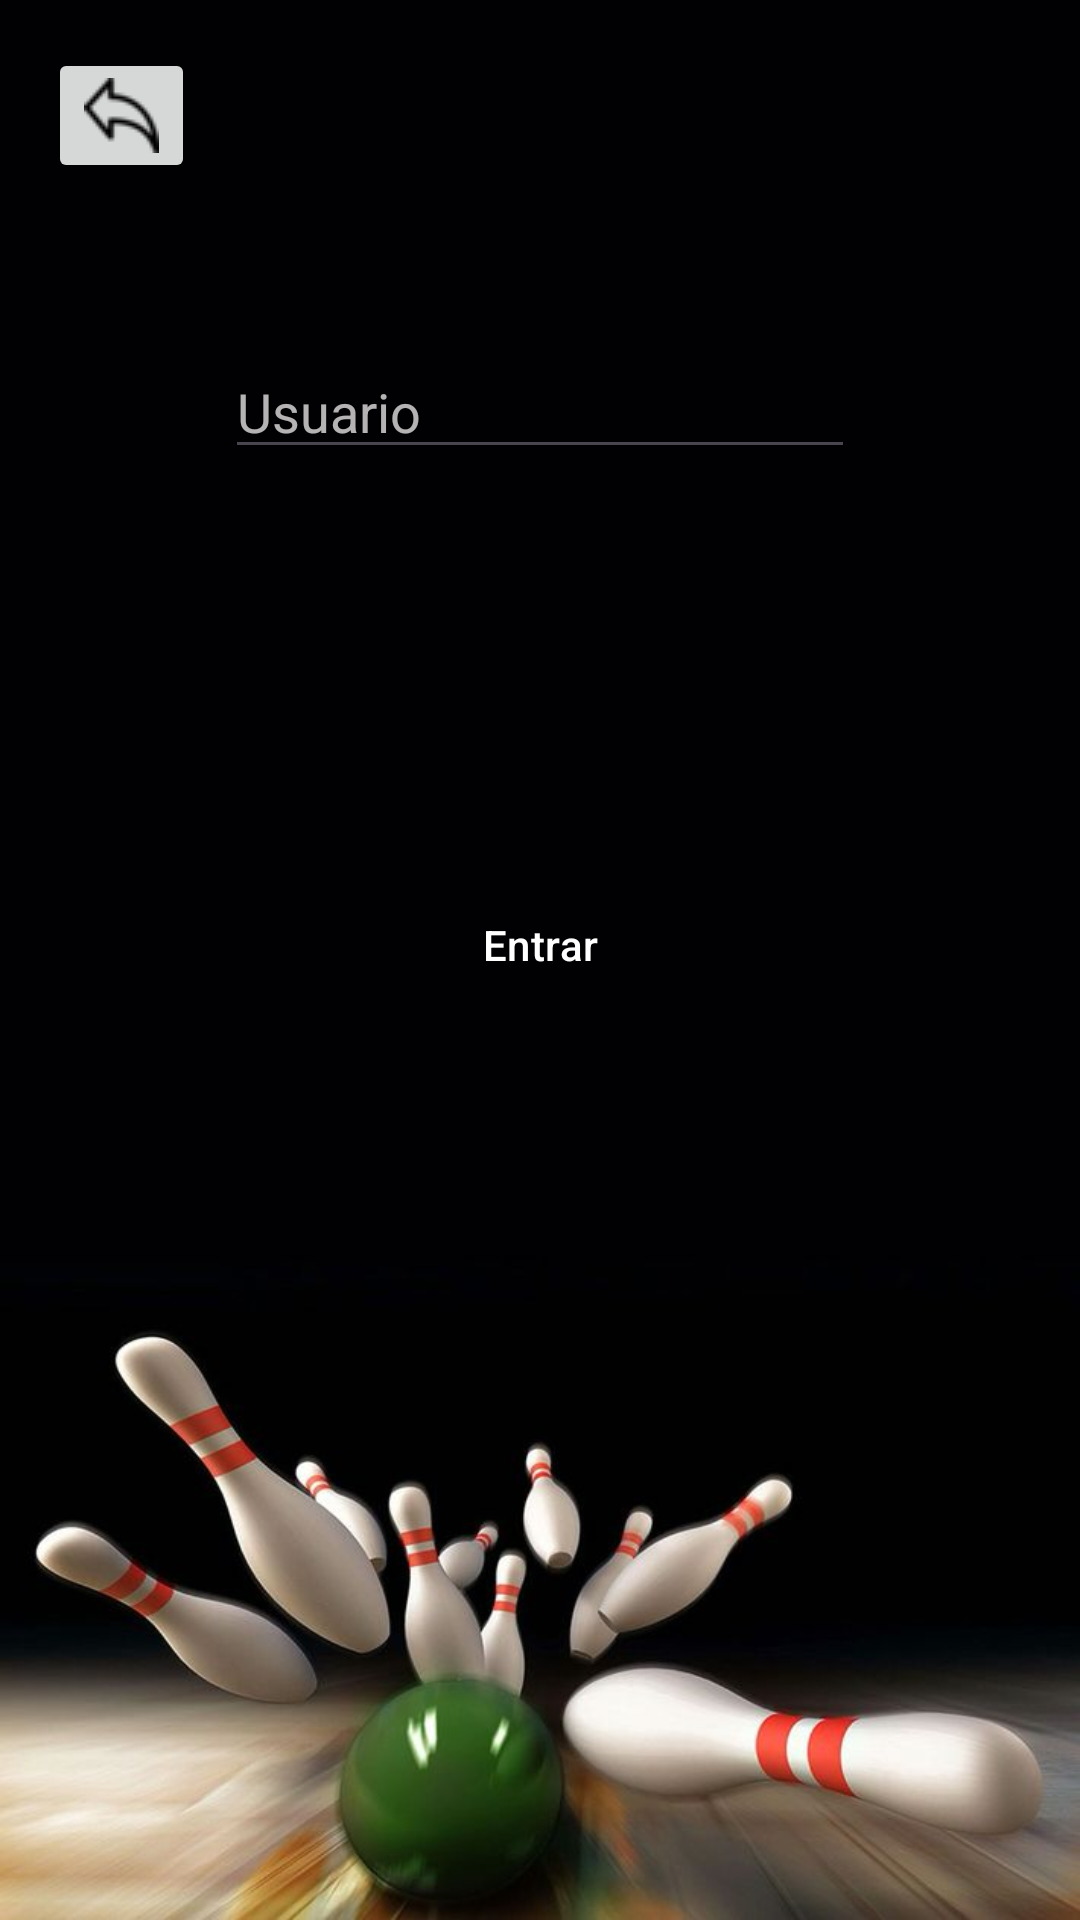

Named icons in this screenshot (1080*1920) and their bounding boxes, [x1=x1, y1=y1, x2=x2, y2=y2]:
flecha: [x1=60, y1=66, x2=183, y2=165]
